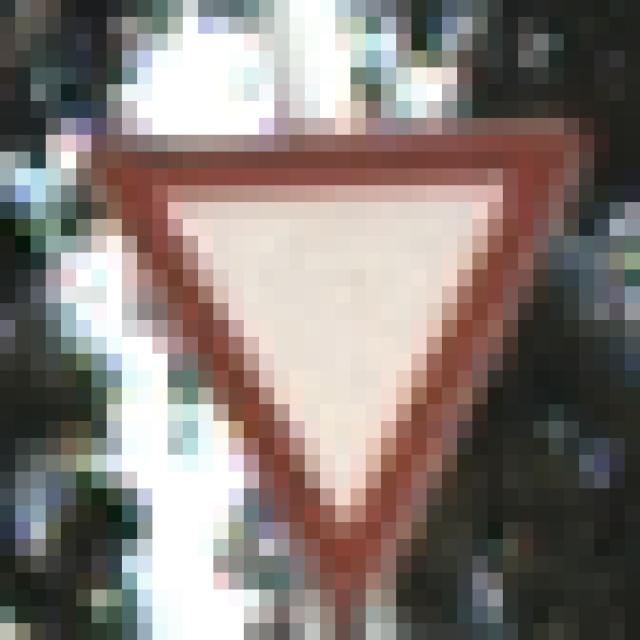Give Way: (77, 85, 565, 540)
